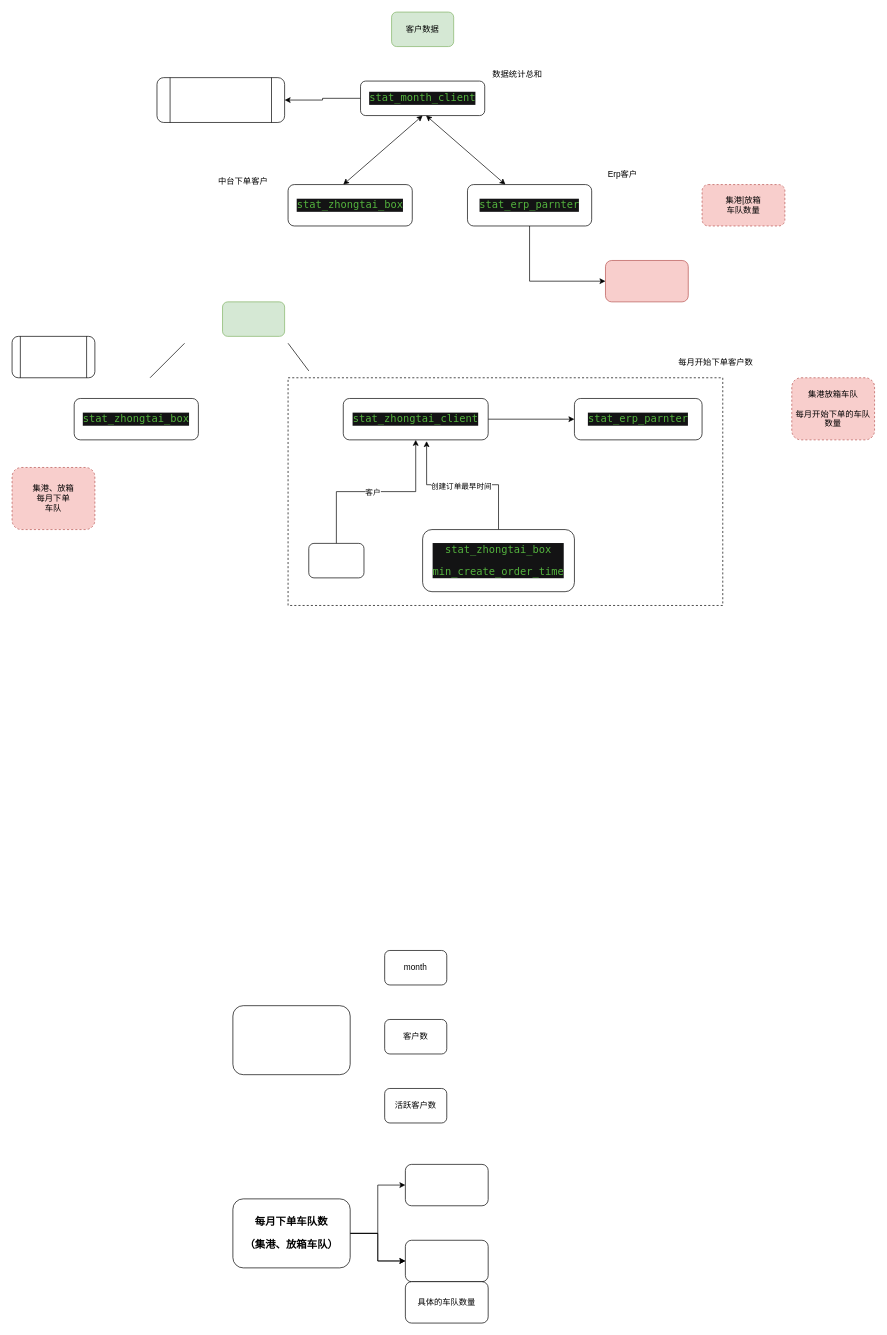
Some shapes in this 887 by 1335 pixel diagram are drawn without their labels. The centre of each missing label's shape, as x and y in pixels:
count 客户总数 huoyue_arr 复购率的数: [220,99]
enter: [336,560]
stat_month_client 每月下单客户数: [291,1040]
减去 特定erp客户的客户: [646,281]
复购率: [253,318]
月份: [446,1185]
每月下单客户数: [53,357]
车队数量: [446,1261]
